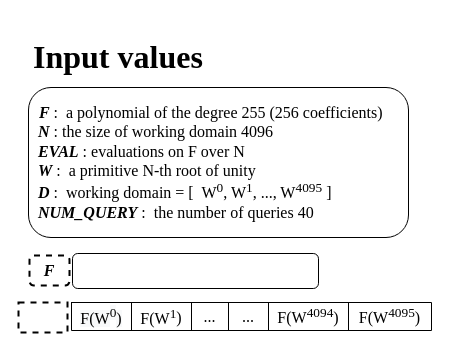
Image size: 449x350. Some labels were removed from this diagram. The shapes that lost their labels are listed below. From the top down, each one's centre as x and y in pixels, then its label:
point (195, 270): c 0 *x 255 + c 1 *x 254 + ... + c 255 *x 0
point (42, 317): EVAL
